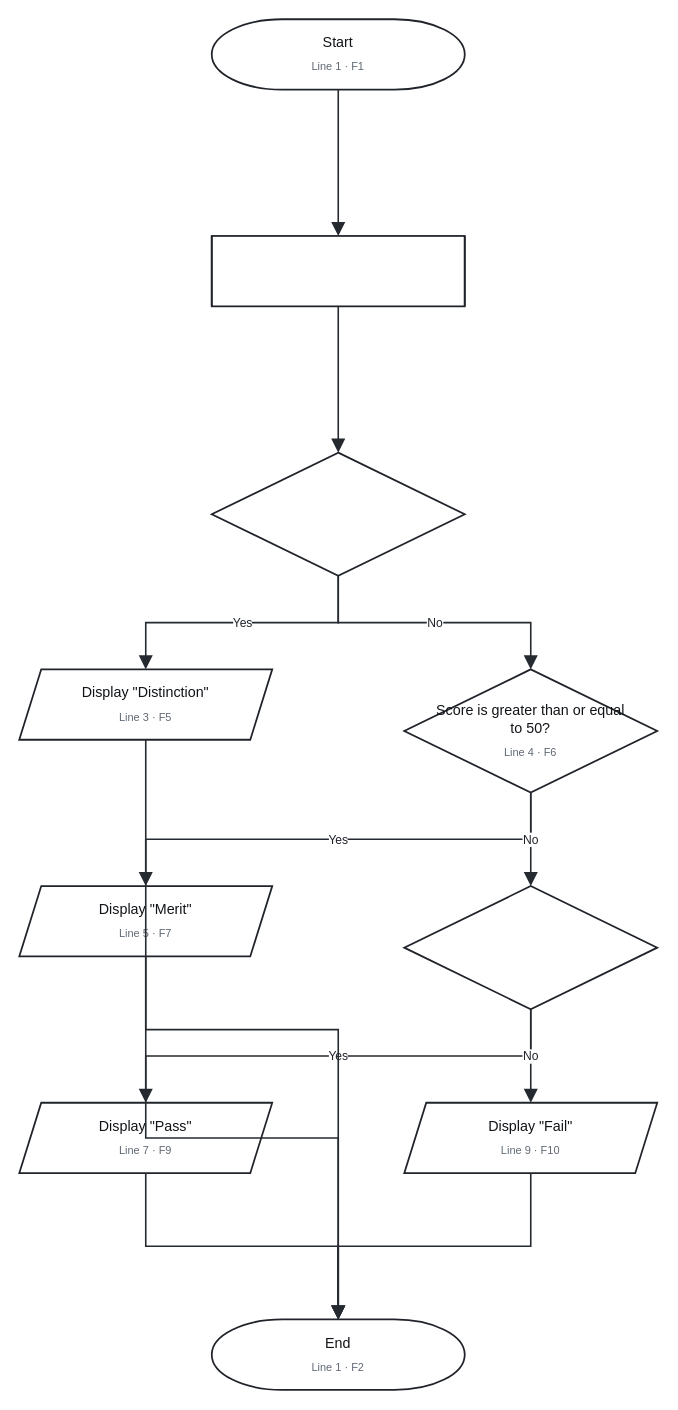
Some shapes in this 678 by 1410 pixel diagram are drawn without their labels. The centre of each missing label's shape, as x and y in pixels:
"Run function unnamed_function with Score Line 1 · F3" goes at (337,271).
"Score is greater than or equal to 40? Line 6 · F8" goes at (530,947).
"Score is greater than or equal to 70? Line 2 · F4" goes at (337,513).
